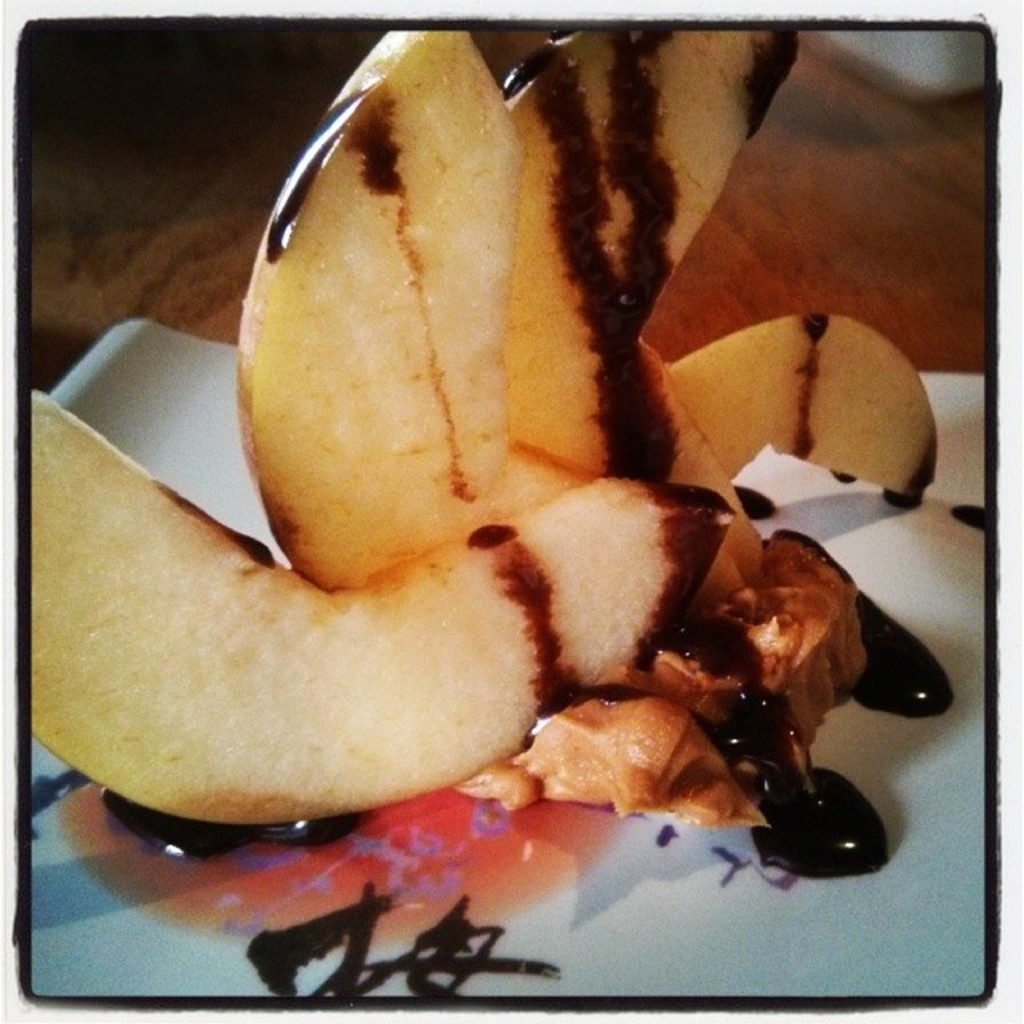Apple: (230, 28, 768, 612), (30, 384, 556, 820), (500, 28, 801, 612), (359, 467, 728, 699), (523, 329, 758, 576), (665, 308, 940, 512)
